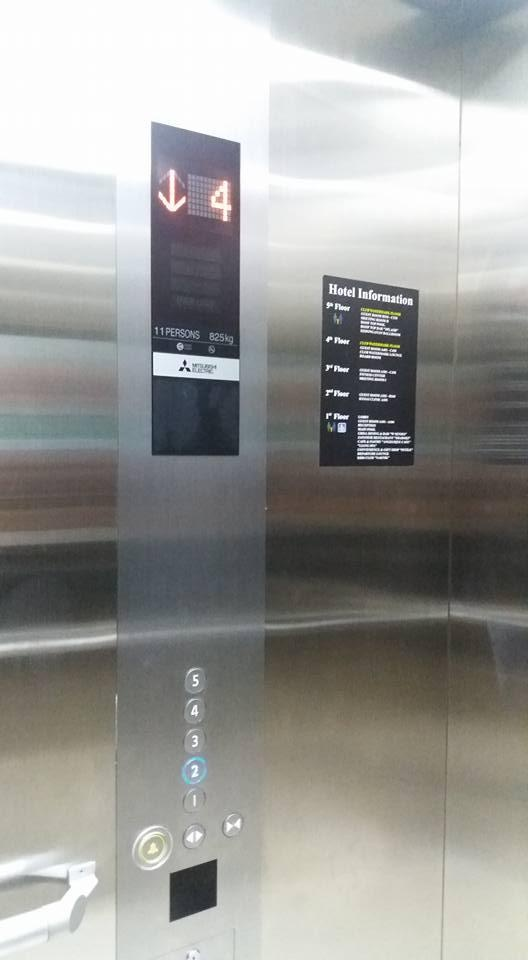1: (181, 787, 208, 813)
2: (181, 755, 208, 785)
3: (183, 728, 207, 755)
4: (182, 696, 209, 724)
5: (183, 665, 207, 695)
alarm: (131, 824, 175, 872)
close: (221, 812, 244, 839)
keyhole: (184, 947, 204, 960)
led: (148, 115, 245, 462), (170, 858, 217, 921)
open: (181, 822, 207, 849)
